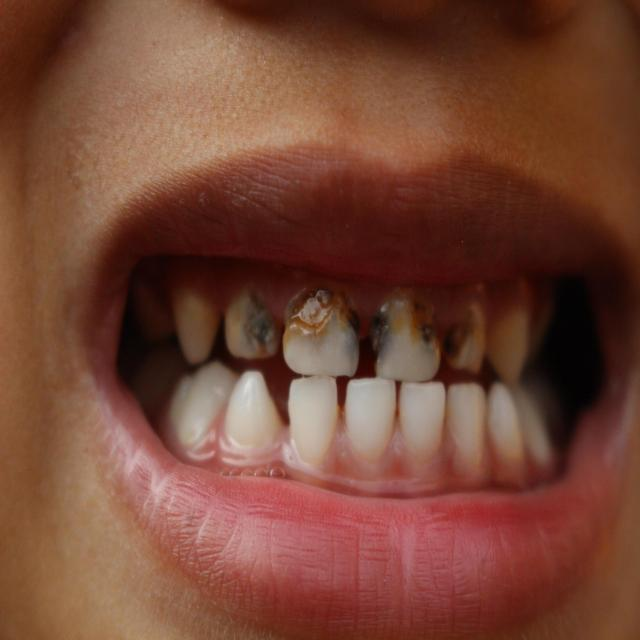caries: (282, 284, 361, 376), (372, 290, 441, 381), (223, 287, 279, 360), (445, 306, 487, 374)
